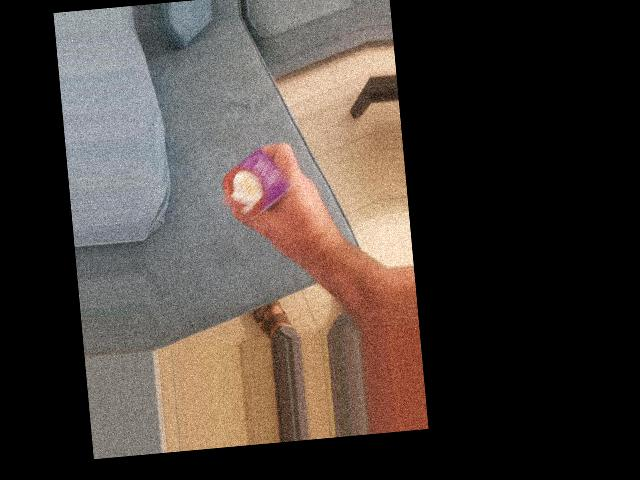milky: (157, 107, 241, 180)
